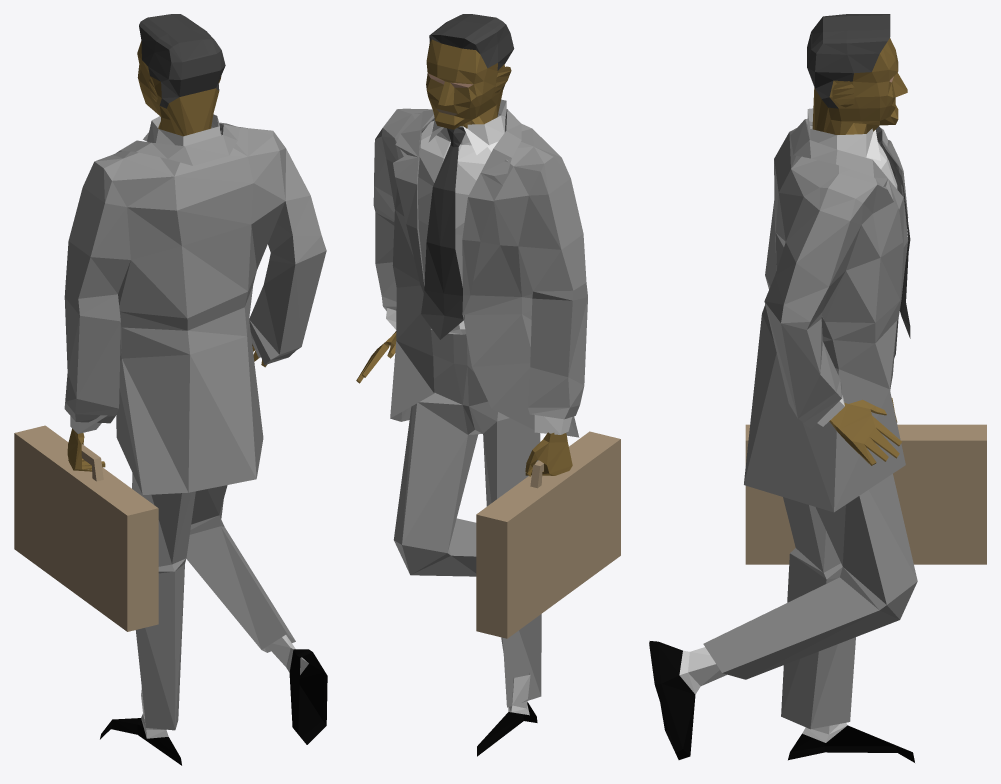
Rendered from person3.fbx.
The picture shows the model from 3 angles, left to right: view 1: azimuth 30°, elevation 25°; view 2: azimuth 150°, elevation 25°; view 3: azimuth 270°, elevation 25°; orthographic projection. The views are drawn at different scales.
Parts seen in each view (by area): view 1: -JACKET; view 2: -JACKET; view 3: -JACKET.
Part boxes in pixels (x1,y1,x2,y2): -JACKET: [14, 14, 327, 765]; -JACKET: [356, 14, 620, 756]; -JACKET: [649, 14, 986, 762].
Bounding box in the file's own units: 0.6585 × 0.8093 × 2.01.
